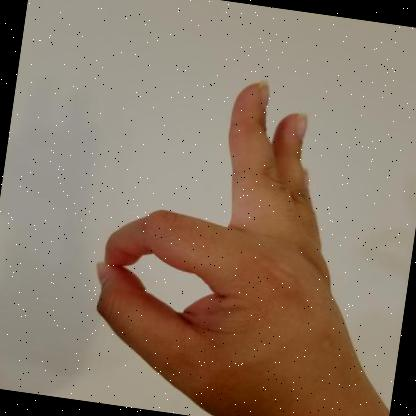F: (96, 81, 380, 416)
